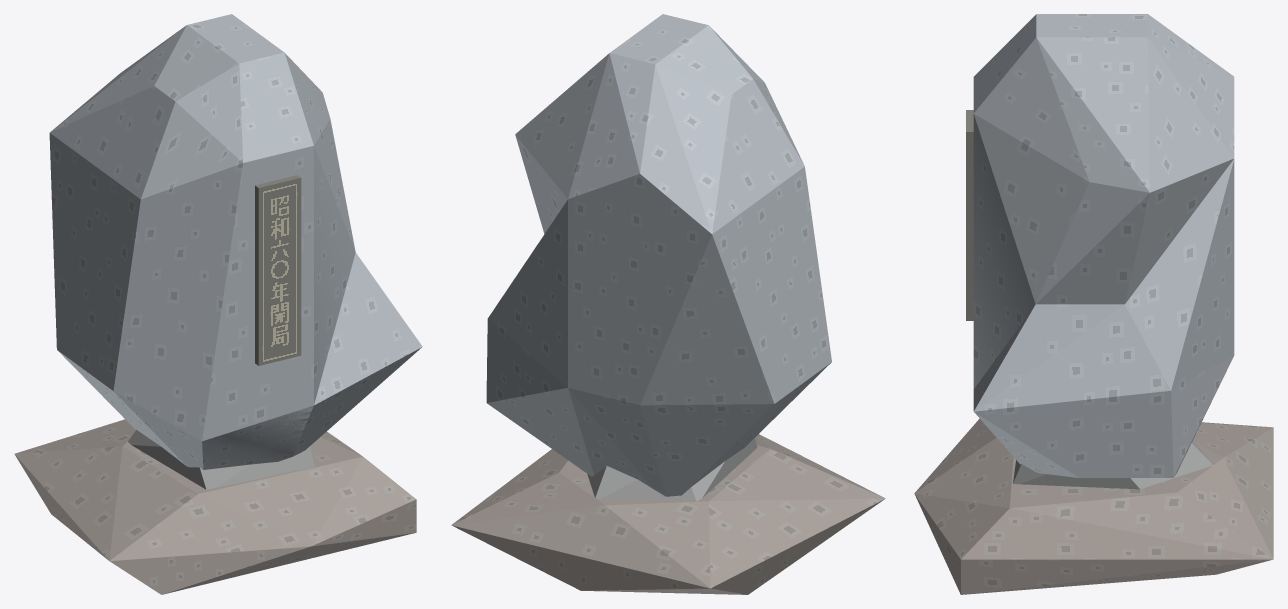
Rendered from 047e_Monument.glb.
3 views of the same model, side by side, from view 1: azimuth 30°, elevation 25°; view 2: azimuth 150°, elevation 25°; view 3: azimuth 270°, elevation 25° (orthographic). The views are drawn at different scales.
Parts seen in each view (by area): view 1: part_0; view 2: part_0; view 3: part_0.
Boxes of the visible parts, <box> form: part_0: <box>14,14,422,594</box>; part_0: <box>451,14,885,594</box>; part_0: <box>914,14,1273,594</box>.
Size of the model in its own units: 1.44 by 2.15 by 1.38.
Materials: 1 (1 with a texture image).
